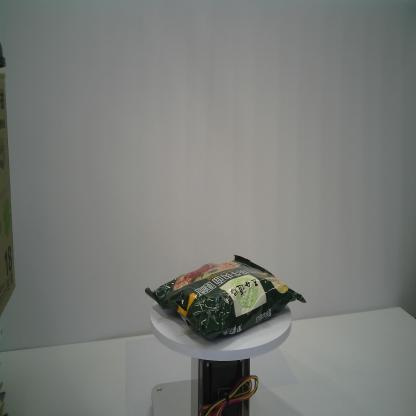Instant Noodles: (145, 254, 307, 341)
